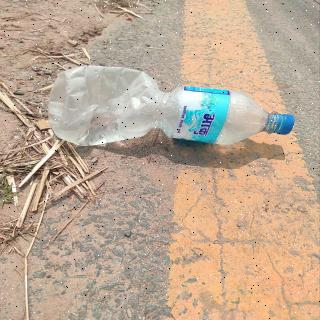Plastic-bottle: (46, 65, 298, 151)
